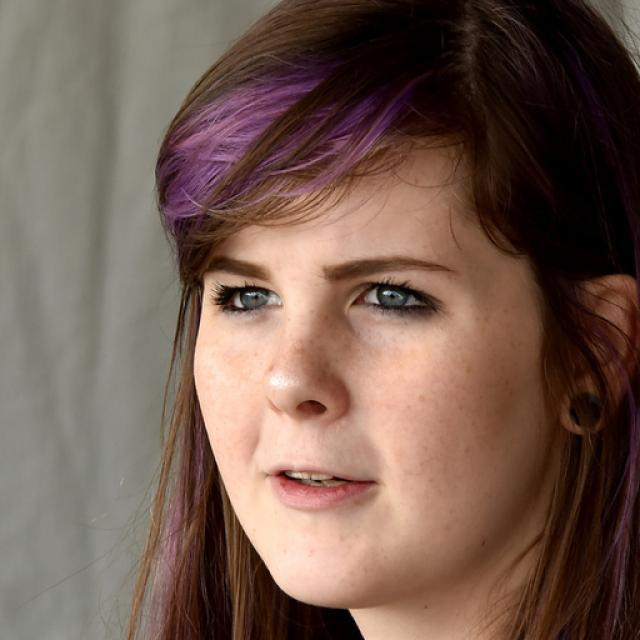content: (191, 123, 555, 608)
